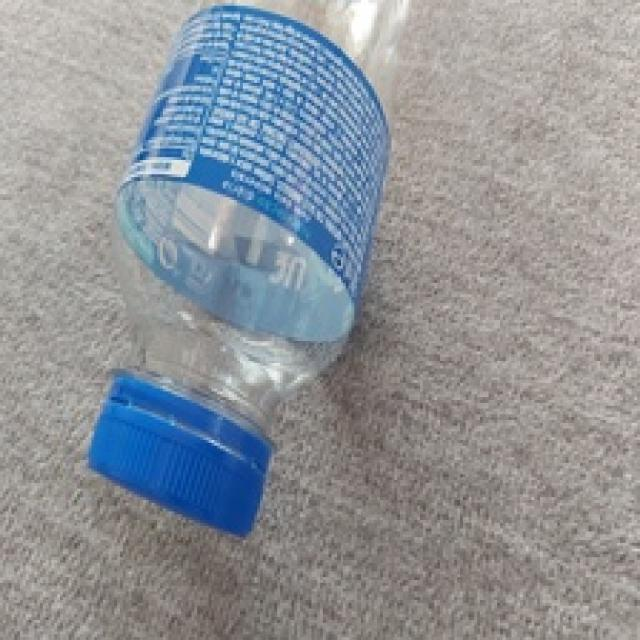Plastic: (85, 0, 421, 541)
